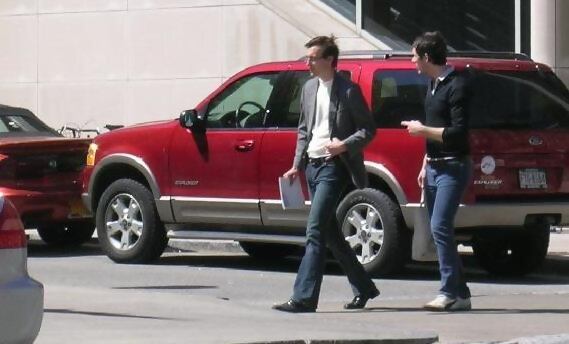person: (269, 31, 382, 316), (396, 31, 488, 314)
